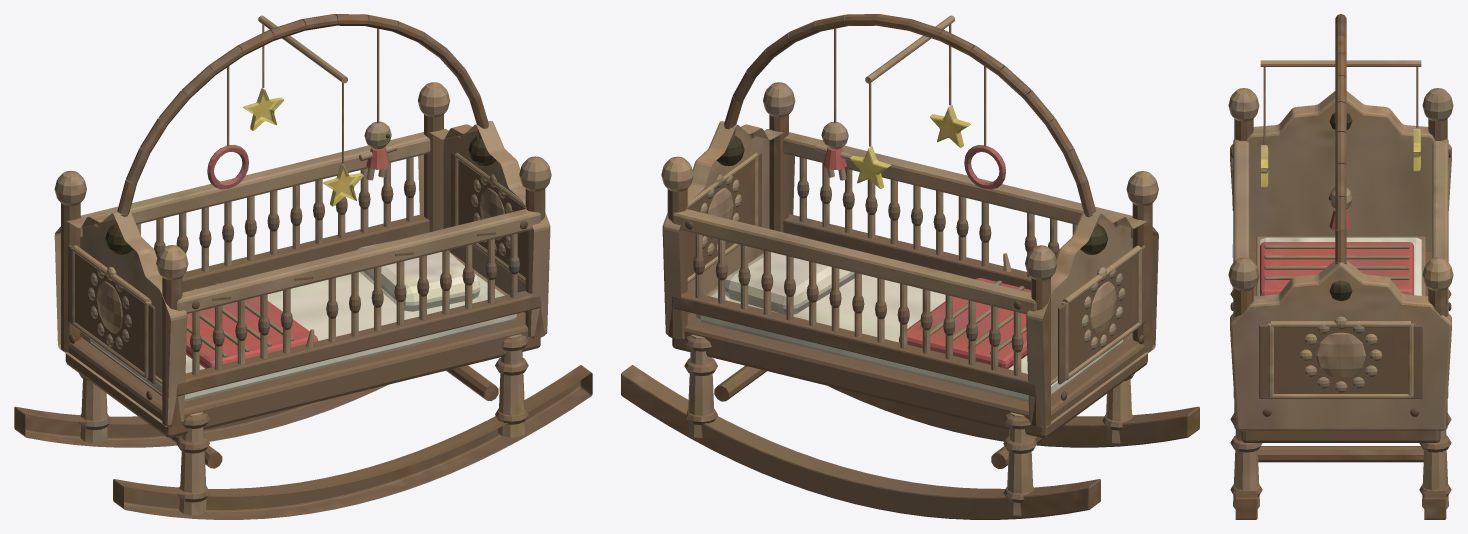
File: A01_giant_cradle.glb
3 renders of one model, left to right at view 1: azimuth 30°, elevation 25°; view 2: azimuth 150°, elevation 25°; view 3: azimuth 270°, elevation 25°, orthographic. The views are drawn at different scales.
Parts seen in each view (by area): view 1: Curved heavy wooden rocker; view 2: Curved heavy wooden rocker; view 3: Curved heavy wooden rocker.
Boxes of the visible parts, x1=… form: Curved heavy wooden rocker: x1=14, y1=14, x2=592, y2=519; Curved heavy wooden rocker: x1=621, y1=14, x2=1199, y2=519; Curved heavy wooden rocker: x1=1228, y1=14, x2=1453, y2=519.
Size of the model in its own units: 4 by 3.62 by 1.74.
Materials: 10 (10 with a texture image).
